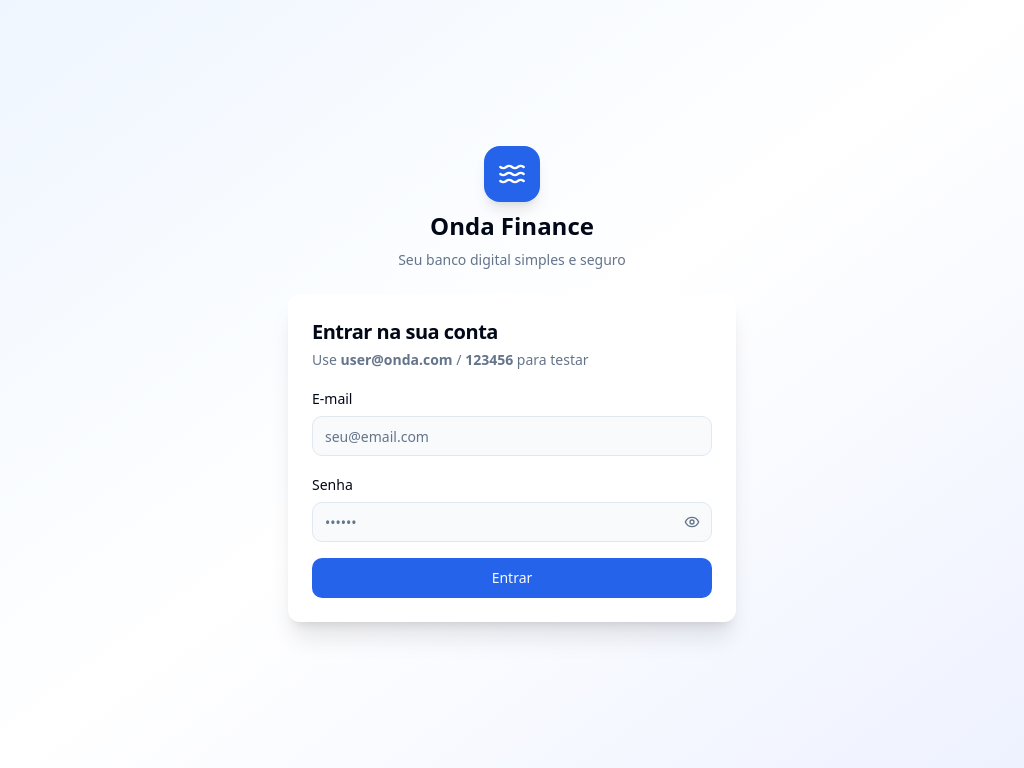
Login Page › shows validation errors for empty submission
The width and height of the screenshot is (1024, 768).
What coordinates should you click on to do the following:
click the button "Entrar"
I would click on:
 (512, 578)
Its box is 312,558 -> 712,598.
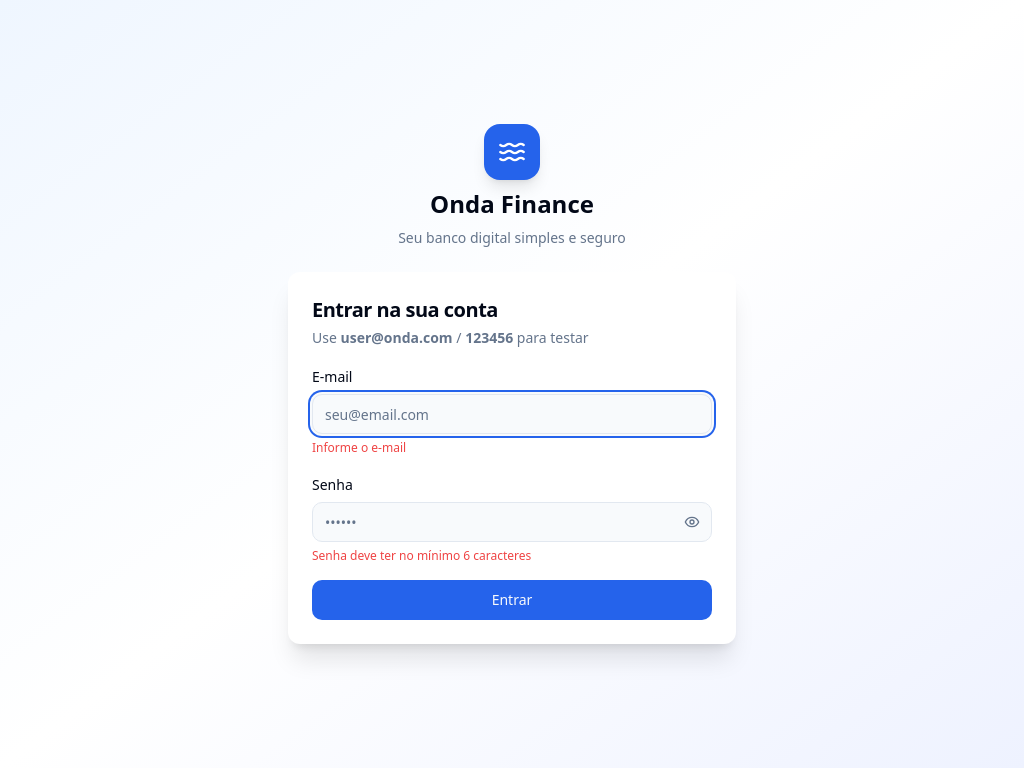
Now the text "Informe o e-mail" is shown, box 312,439 -> 406,456
Now the text "Senha deve ter no mínimo 6 caracteres" is shown, box 312,547 -> 531,564
